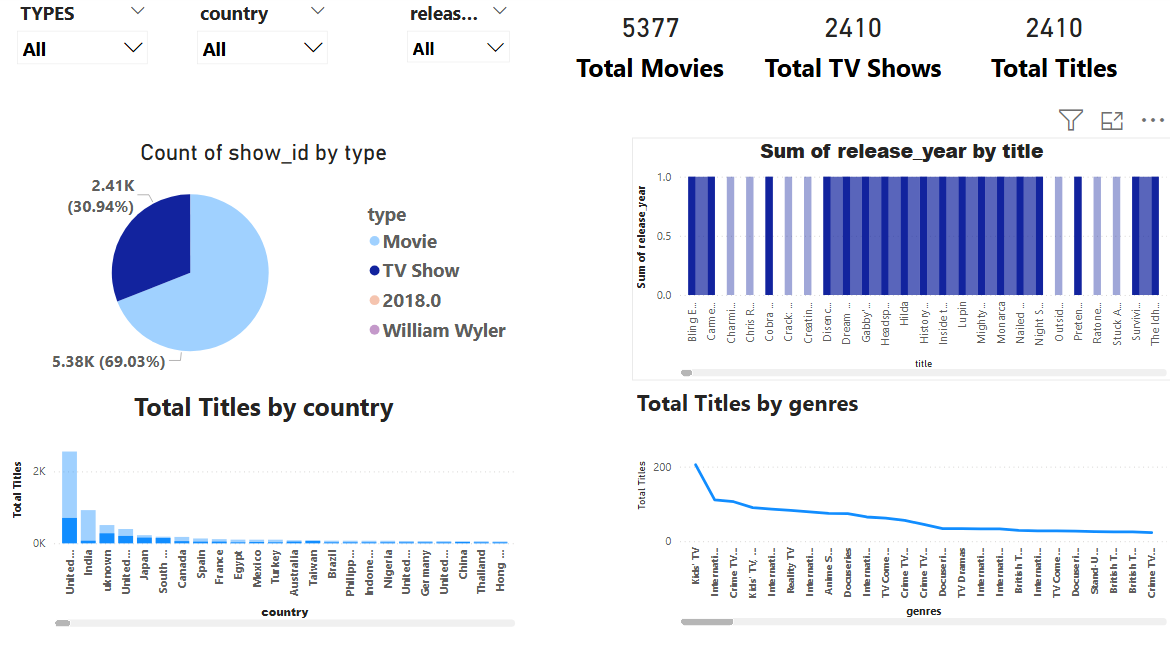

What the dashboard file says about the page in this screenshot:
{"tool":"powerbi","page":{"name":"Page 1","canvas":[1280,720],"ordinal":0},"visuals":[{"type":"card","fields":{"Values":["cleaned_netflix.Total Movies"]},"box":[593.4,0,219.2,102],"z":0},{"type":"card","fields":{"Values":["cleaned_netflix.Total Titles"]},"box":[1029.9,0,217.3,102],"z":1000},{"type":"card","fields":{"Values":["cleaned_netflix.Total TV Shows"]},"box":[812.6,0,217.3,102],"z":2000},{"type":"pieChart","fields":{"Y":["CountNonNull(cleaned_netflix.show_id)"],"Category":["cleaned_netflix.type"]},"box":[9.4,155,551.8,260.8],"z":3000},{"type":"ribbonChart","fields":{"Y":["Sum(cleaned_netflix.release_year)"],"Category":["cleaned_netflix.title"]},"box":[684.1,153.1,582.1,262.7],"z":4000},{"type":"columnChart","fields":{"Category":["cleaned_netflix.country"],"Y":["cleaned_netflix.Total Titles"]},"box":[9,426,552,261],"z":5000},{"type":"lineChart","fields":{"Category":["cleaned_netflix.genres"],"Y":["cleaned_netflix.Total Titles"]},"box":[684.1,423.3,582.1,262.7],"z":6000},{"type":"slicer","fields":{"Values":["cleaned_netflix.type"]},"box":[9.4,0,160.6,102],"z":6001},{"type":"slicer","fields":{"Values":["cleaned_netflix.country"]},"box":[204.1,0,160.6,102],"z":6002},{"type":"slicer","fields":{"Values":["cleaned_netflix.release_year"]},"box":[430.9,0,130.4,102],"z":6003}]}

Visuals, with their boxes in screenshot pixels (x1, y1, x2, y2), scaled from the page's 1280x720 canvas onto the 1170x658 screenshot:
card - cleaned_netflix.Total Movies: (x1=542, y1=0, x2=743, y2=93)
card - cleaned_netflix.Total Titles: (x1=941, y1=0, x2=1140, y2=93)
card - cleaned_netflix.Total TV Shows: (x1=743, y1=0, x2=941, y2=93)
pieChart - CountNonNull(cleaned_netflix.show_id) x cleaned_netflix.type: (x1=9, y1=142, x2=513, y2=380)
ribbonChart - Sum(cleaned_netflix.release_year) x cleaned_netflix.title: (x1=625, y1=140, x2=1157, y2=380)
columnChart - cleaned_netflix.country x cleaned_netflix.Total Titles: (x1=8, y1=389, x2=513, y2=628)
lineChart - cleaned_netflix.genres x cleaned_netflix.Total Titles: (x1=625, y1=387, x2=1157, y2=627)
slicer - cleaned_netflix.type: (x1=9, y1=0, x2=155, y2=93)
slicer - cleaned_netflix.country: (x1=187, y1=0, x2=333, y2=93)
slicer - cleaned_netflix.release_year: (x1=394, y1=0, x2=513, y2=93)
